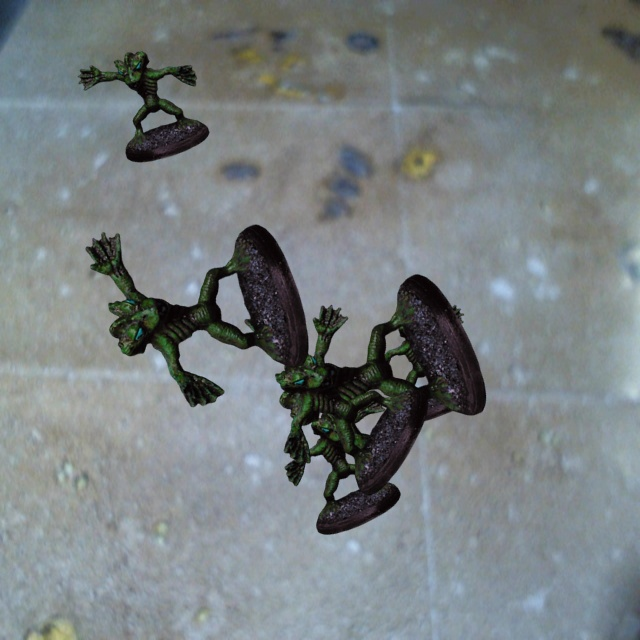pieza_juego: (244, 274, 485, 469), (85, 224, 308, 406), (279, 305, 427, 494), (284, 391, 400, 534), (78, 51, 209, 162), (372, 305, 468, 423)
